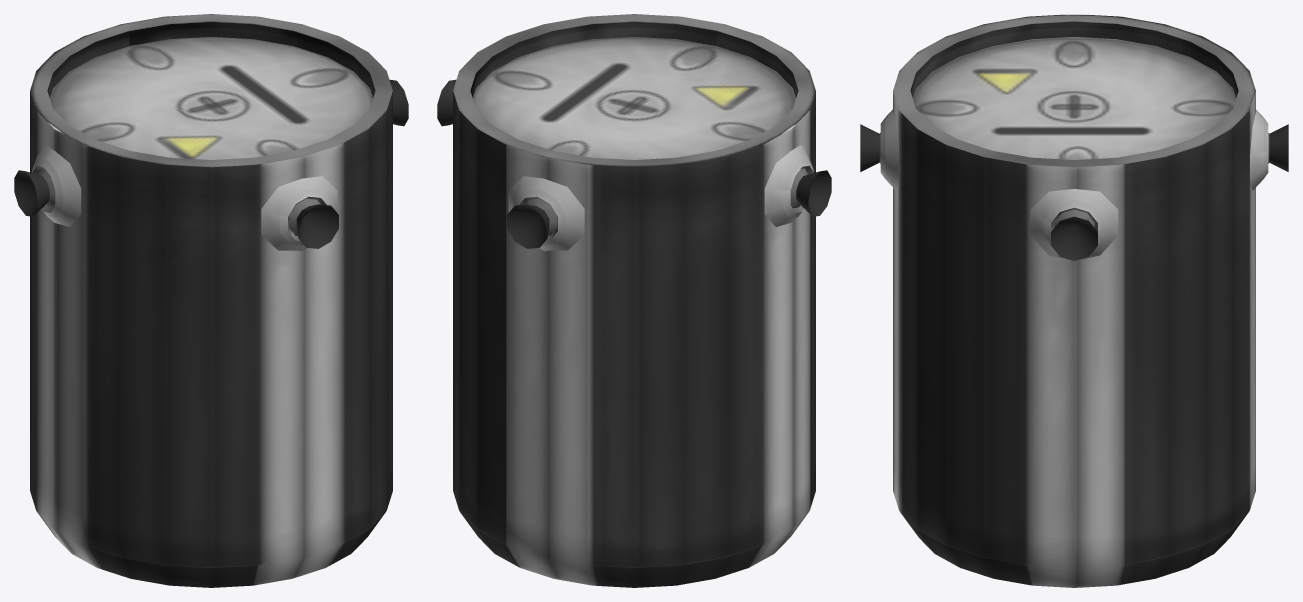
File: FCP.FBX
3 renders of one model, left to right at view 1: azimuth 30°, elevation 25°; view 2: azimuth 150°, elevation 25°; view 3: azimuth 270°, elevation 25°, orthographic.
Visible parts, largest first — view 1: base, RCSThruster004, RCSThruster003, RCSThruster002; view 2: base, cap, RCSThruster001, RCSThruster003, RCSThruster002; view 3: base, cap, RCSThruster002, RCSThruster001, RCSThruster004.
Boxes of the visible parts, x1,y1,x2,y2 form: base: [30, 14, 392, 587]; RCSThruster004: [261, 176, 338, 250]; RCSThruster003: [14, 145, 81, 226]; RCSThruster002: [389, 79, 408, 126]; base: [453, 14, 815, 587]; cap: [453, 198, 725, 537]; RCSThruster001: [507, 176, 584, 250]; RCSThruster003: [764, 145, 831, 226]; RCSThruster002: [437, 79, 456, 126]; base: [893, 14, 1255, 587]; cap: [1165, 197, 1255, 526]; RCSThruster002: [1030, 189, 1118, 260]; RCSThruster001: [1250, 109, 1288, 190]; RCSThruster004: [860, 109, 898, 190].
Size of the model in its own units: 0.7499 by 0.7499 by 0.8285.
1 material, 1 textured.
